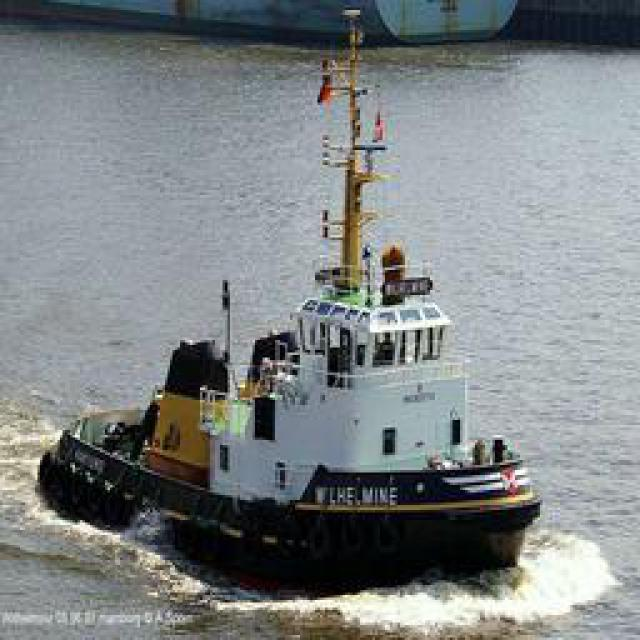Ship: (40, 79, 543, 579)
